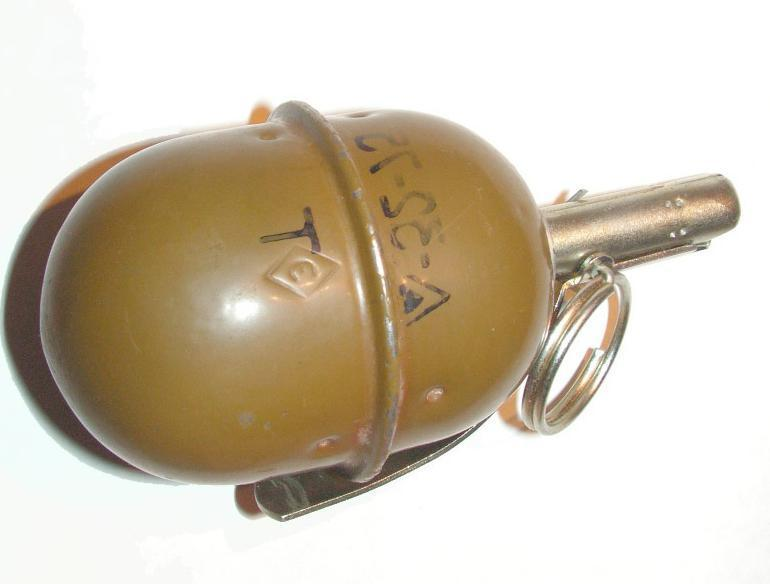Grenade: (38, 97, 741, 520)
